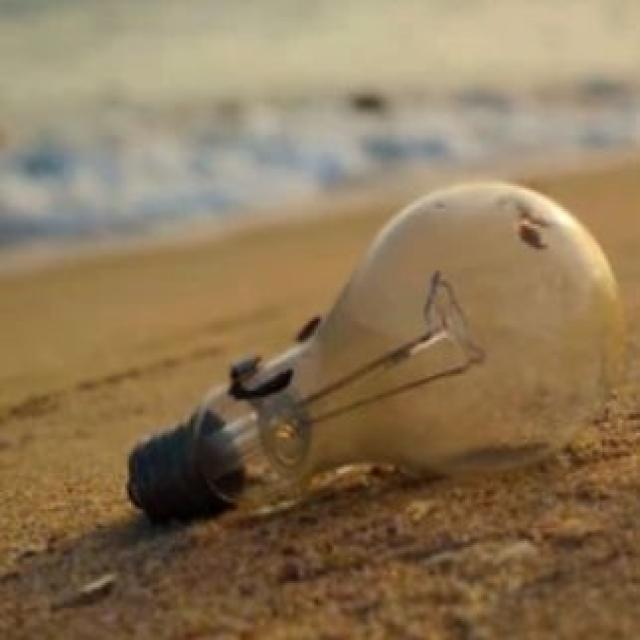electronic: (123, 175, 626, 524)
